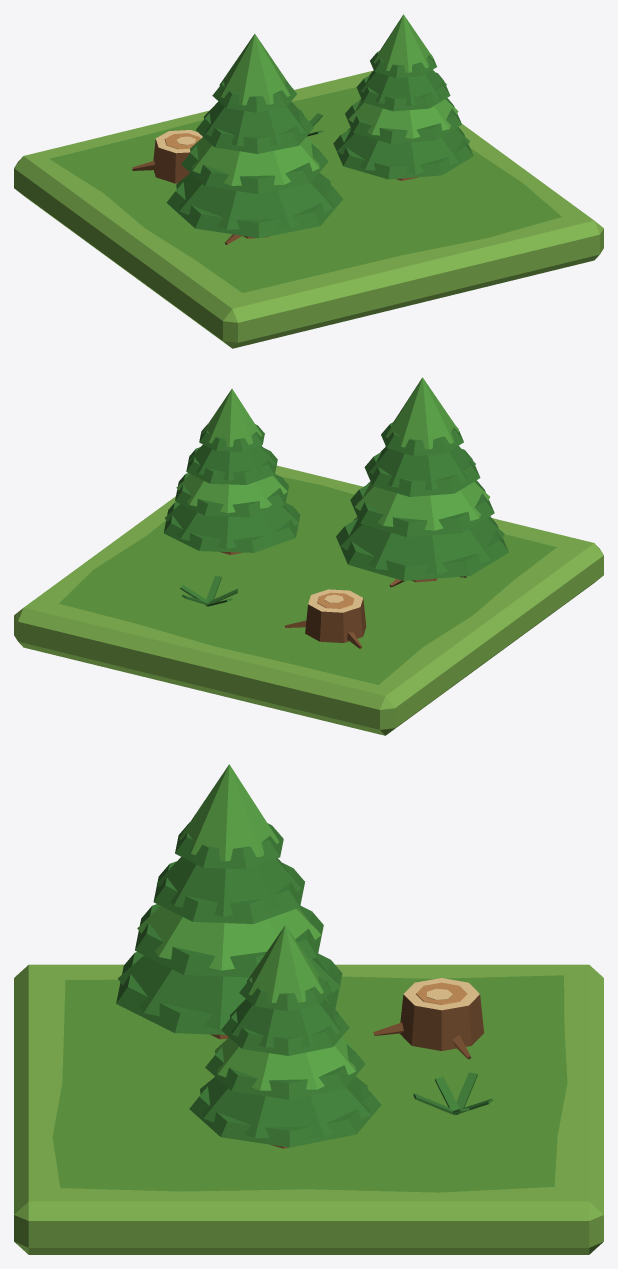
File: tile_forest_b.fbx
3 renders of one model, top to bottom at view 1: azimuth 30°, elevation 25°; view 2: azimuth 150°, elevation 25°; view 3: azimuth 270°, elevation 25°, orthographic. The views are drawn at different scales.
Visible parts, largest first — view 1: tile_forest_b; view 2: tile_forest_b; view 3: tile_forest_b.
Boxes of the visible parts, x1,y1,x2,y2 form: tile_forest_b: (14,14,603,348); tile_forest_b: (14,377,603,735); tile_forest_b: (14,764,603,1254).
Size of the model in its own units: 1 by 0.594 by 1.
